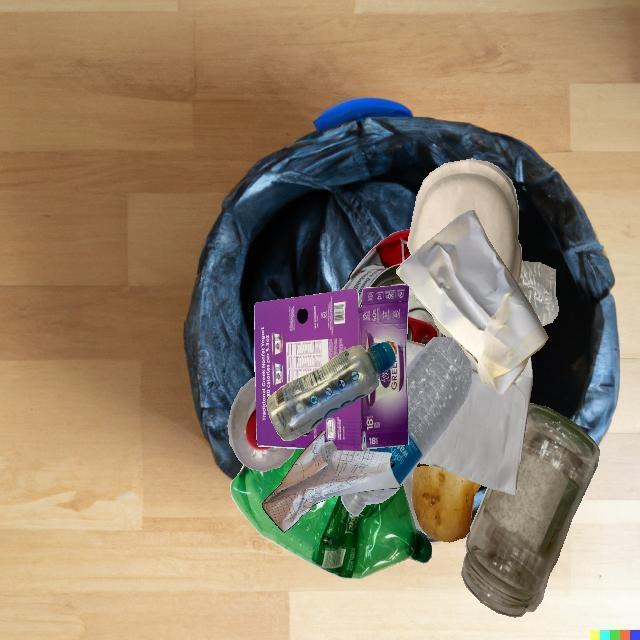biowaste: (411, 465, 481, 542), (416, 463, 429, 466)
cardboard: (254, 285, 409, 451)
glass: (461, 403, 599, 617)
metal: (340, 229, 411, 307), (407, 289, 448, 345)
paper: (396, 210, 548, 395), (419, 356, 533, 495), (407, 159, 522, 284), (262, 430, 400, 532), (402, 468, 424, 531)
plastic: (230, 449, 431, 578), (361, 337, 472, 486), (266, 342, 396, 441), (227, 377, 296, 472), (518, 261, 558, 326)
